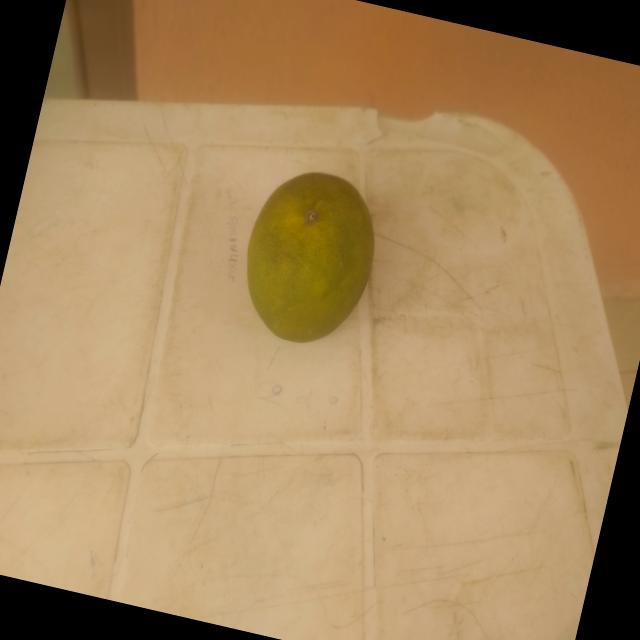agrume: (210, 143, 405, 384)
